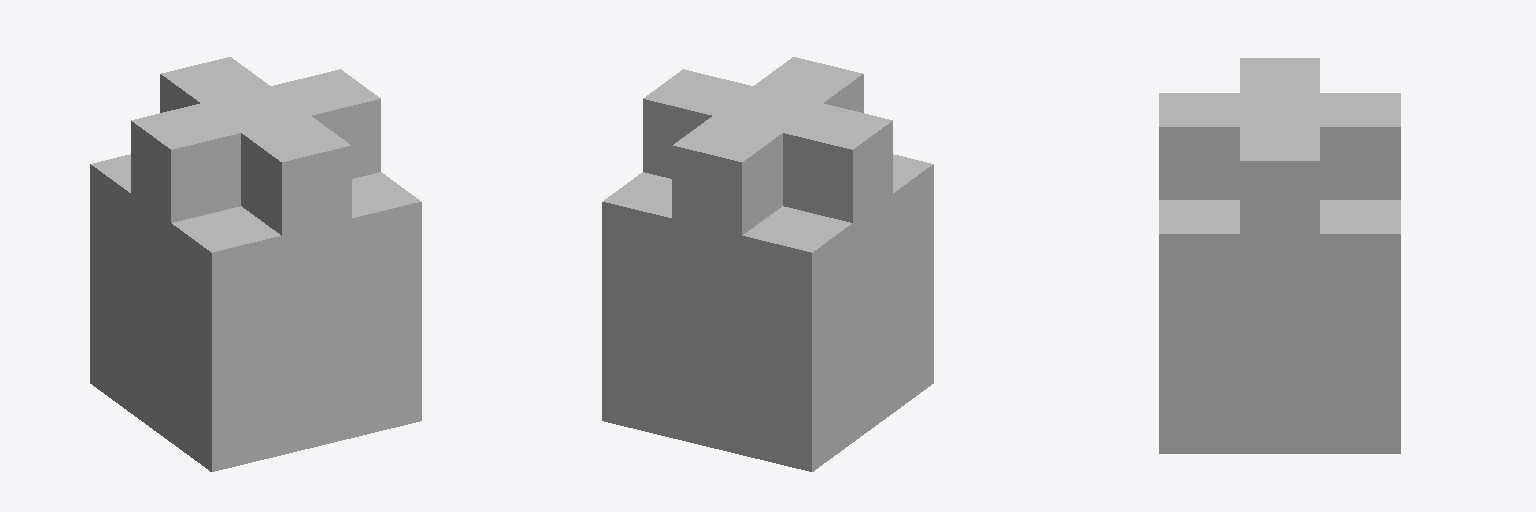
File: Present_V1.obj
3 views of the same model, side by side, from view 1: azimuth 30°, elevation 25°; view 2: azimuth 150°, elevation 25°; view 3: azimuth 270°, elevation 25° (orthographic).
Visible parts, largest first — view 1: Present_V1; view 2: Present_V1; view 3: Present_V1.
Part boxes in pixels (bbox=[...]): Present_V1: bbox=[90, 57, 421, 471]; Present_V1: bbox=[602, 57, 933, 471]; Present_V1: bbox=[1159, 58, 1400, 453].
Size of the model in its own units: 3 by 4 by 3.